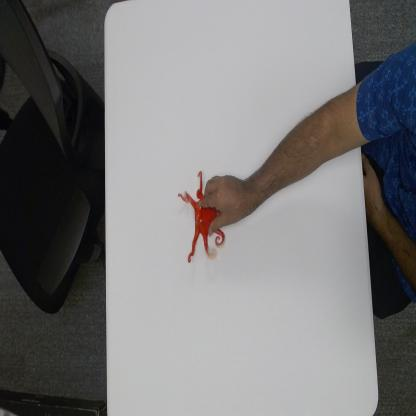Arm: (254, 80, 364, 211)
Hand: (197, 172, 252, 239)
Octopus: (176, 168, 226, 265)
